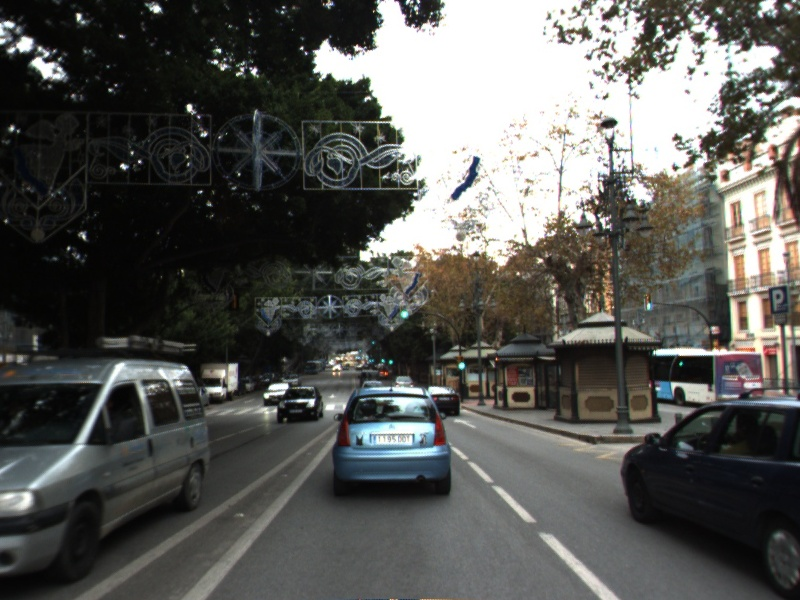STRAIGHT: (451, 416, 479, 431)
